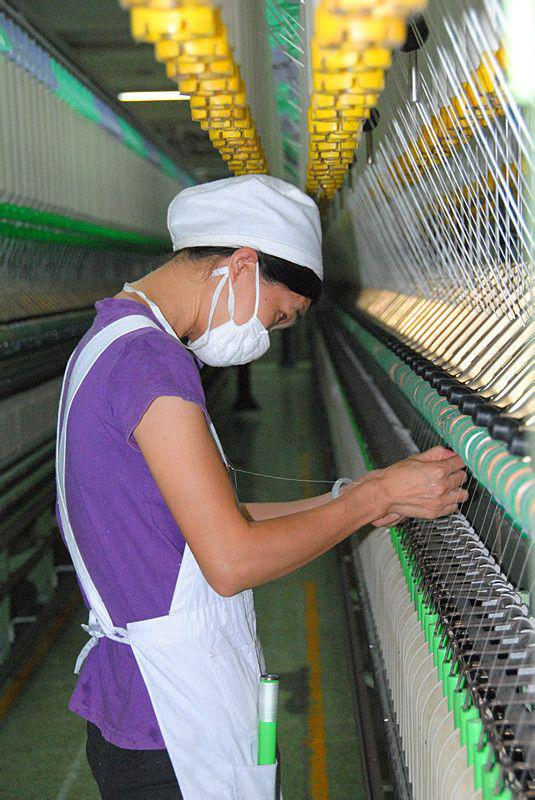OK: (192, 253, 304, 365)
